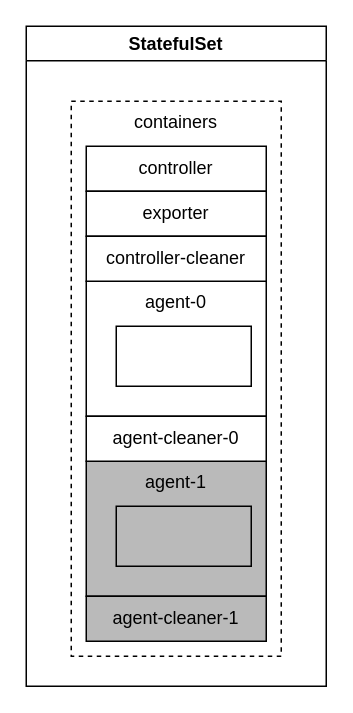
This 353x713 diagram has some shape labels left out. The centre of each missing label's shape, as x and y in pixels:
datanode-0: (183,355)
datanode-1: (183,535)
